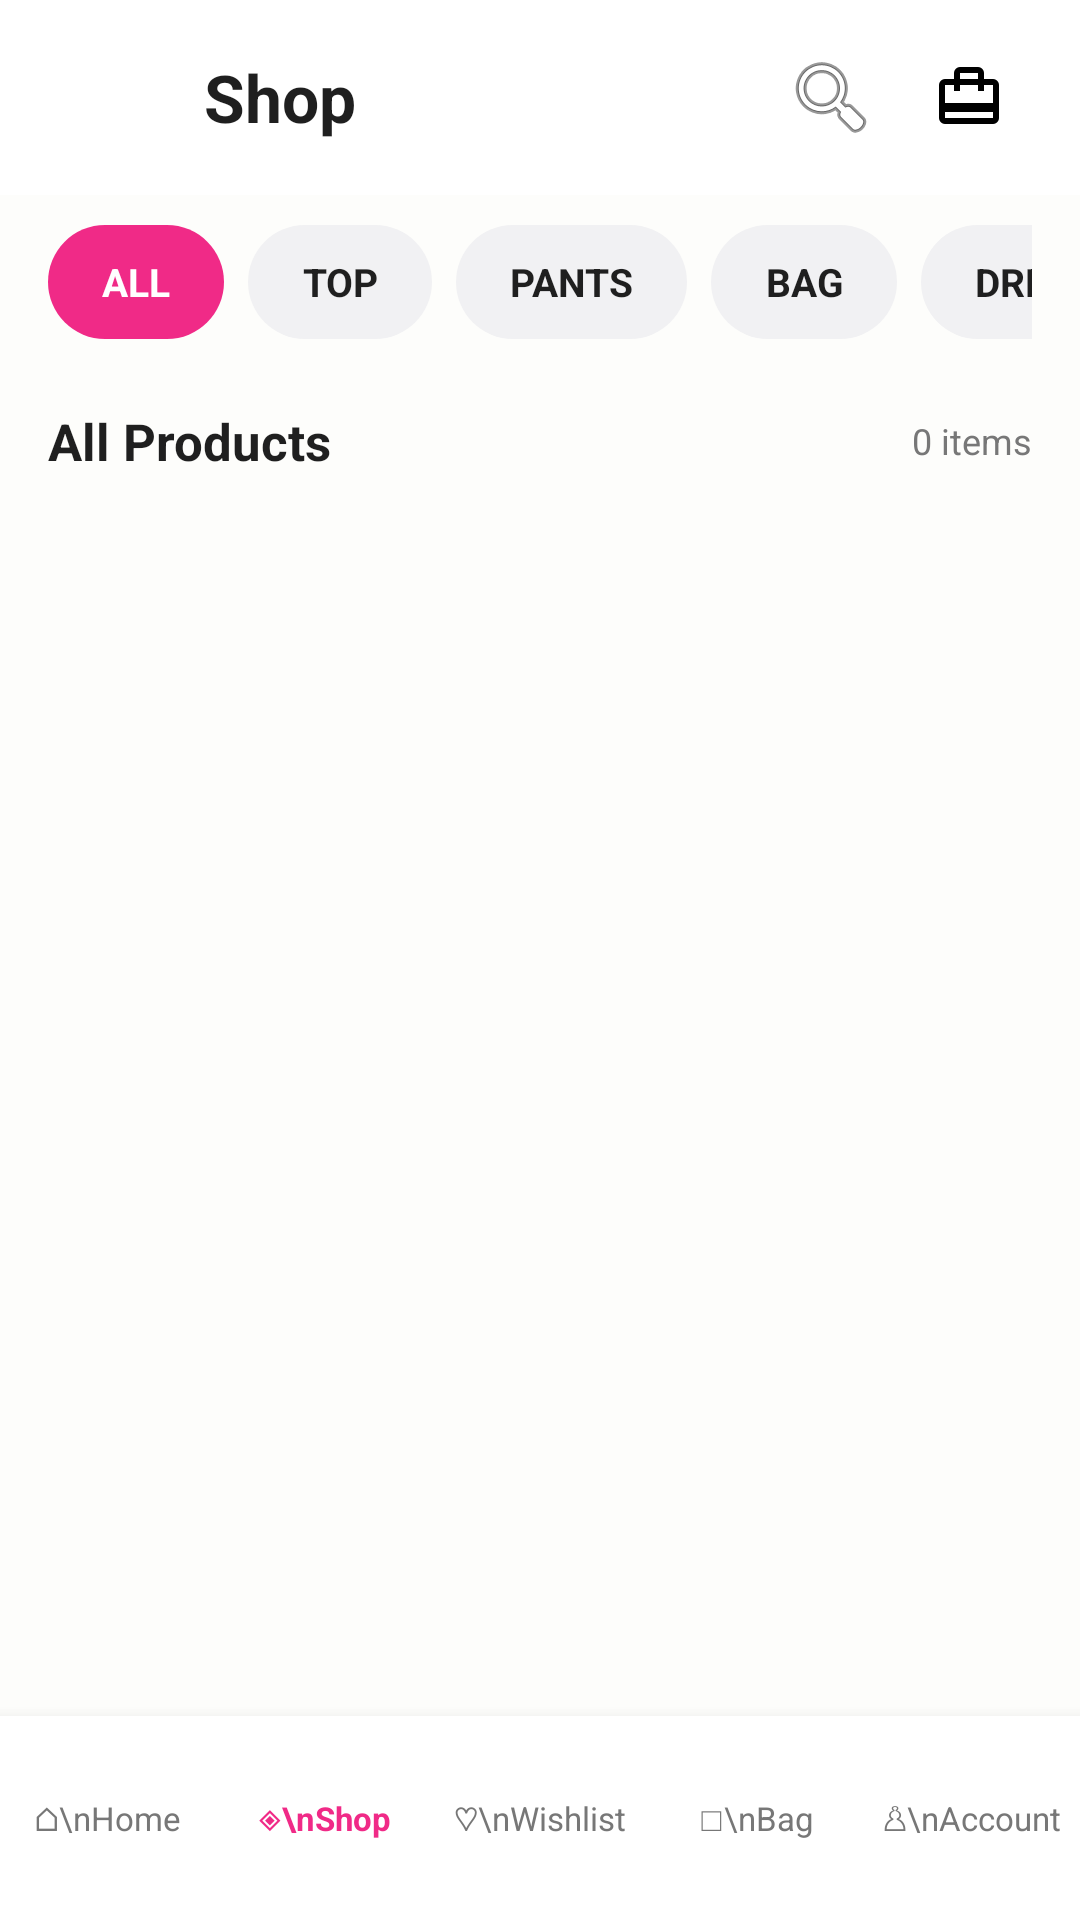

Point at icon controls on the screen. Image size 1080px×1920px, points as (x,y).
Search: (831,97)
